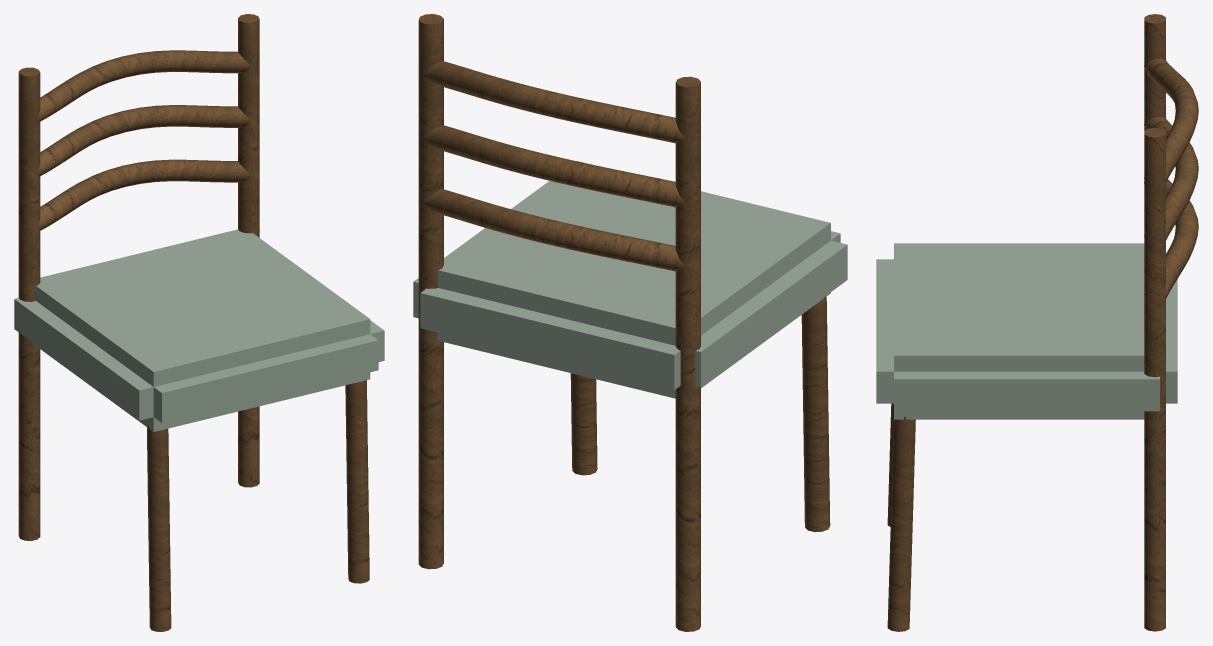
The model's file is sku_v25_dining_chair.glb.
3 renders of one model, left to right at view 1: azimuth 30°, elevation 25°; view 2: azimuth 150°, elevation 25°; view 3: azimuth 270°, elevation 25°, orthographic. The views are drawn at different scales.
Parts seen in each view (by area): view 1: sku_v25_dining_chair_V25_cafe_seat_fabric, sku_v25_dining_chair_CC0_Oak_veneer; view 2: sku_v25_dining_chair_V25_cafe_seat_fabric, sku_v25_dining_chair_CC0_Oak_veneer; view 3: sku_v25_dining_chair_V25_cafe_seat_fabric, sku_v25_dining_chair_CC0_Oak_veneer.
Part boxes in pixels (<box>): sku_v25_dining_chair_V25_cafe_seat_fabric: <box>14,229,384,431</box>; sku_v25_dining_chair_CC0_Oak_veneer: <box>18,14,369,631</box>; sku_v25_dining_chair_V25_cafe_seat_fabric: <box>413,161,847,398</box>; sku_v25_dining_chair_CC0_Oak_veneer: <box>418,14,830,631</box>; sku_v25_dining_chair_V25_cafe_seat_fabric: <box>876,243,1177,419</box>; sku_v25_dining_chair_CC0_Oak_veneer: <box>887,14,1198,631</box>.
Bounding box in the file's own units: 0.47 × 0.8605 × 0.503.
2 materials, 1 textured.
